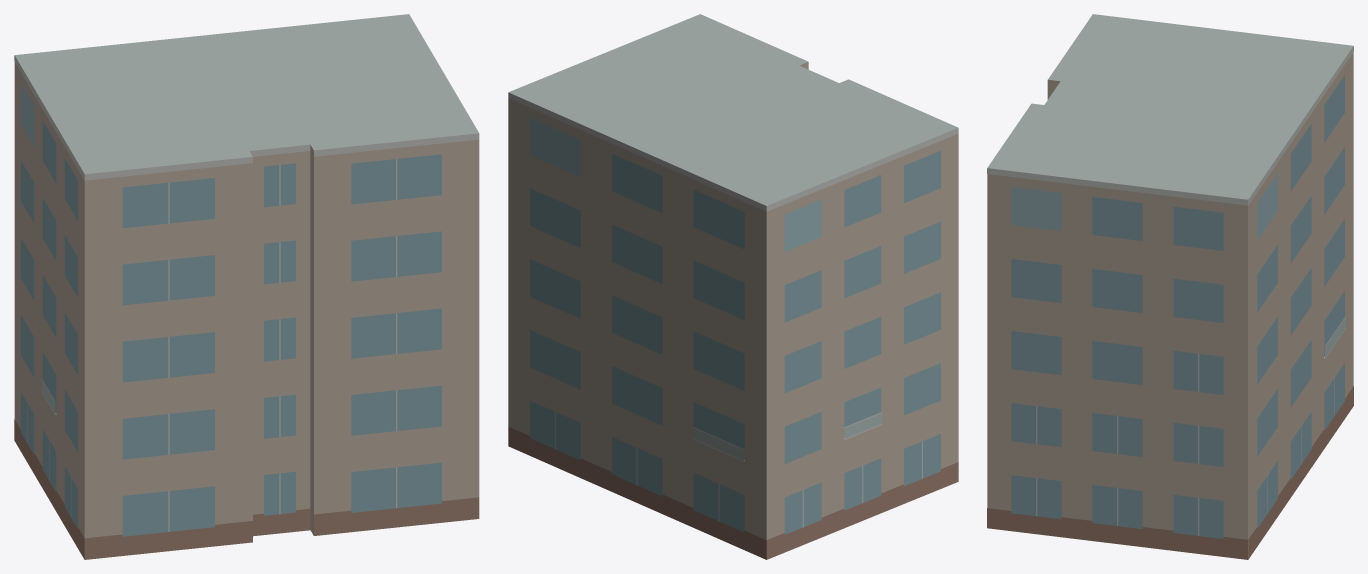
Rendered from survey-upis-32619993.glb.
3 renders of one model, left to right at view 1: azimuth 30°, elevation 25°; view 2: azimuth 150°, elevation 25°; view 3: azimuth 270°, elevation 25°, orthographic. The views are drawn at different scales.
Visible parts, largest first — view 1: survey-upis-32619993.tmp; view 2: survey-upis-32619993.tmp; view 3: survey-upis-32619993.tmp.
Boxes of the visible parts, box(x1,y1,x2,y2) form: survey-upis-32619993.tmp: box(14, 14, 479, 559); survey-upis-32619993.tmp: box(508, 14, 958, 559); survey-upis-32619993.tmp: box(987, 14, 1353, 559).
Size of the model in its own units: 16.55 by 14.95 by 13.81.
